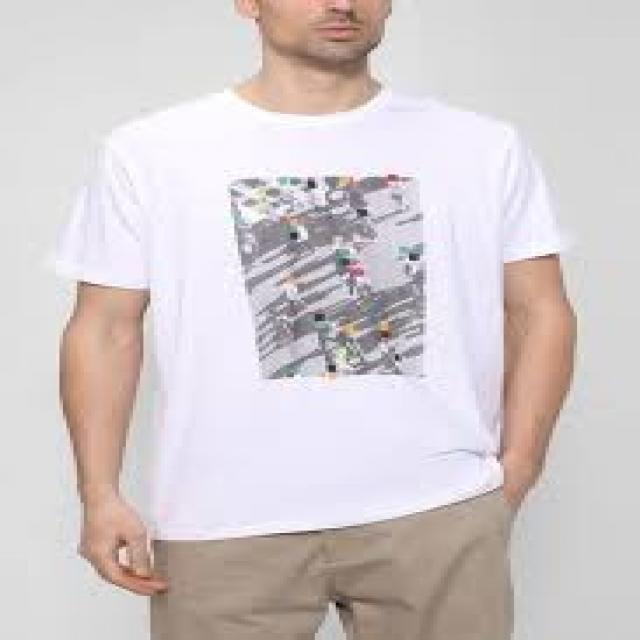Shirt: (38, 75, 588, 555)
